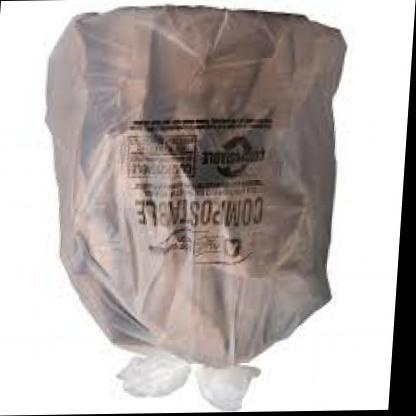trash: (46, 6, 345, 409)
